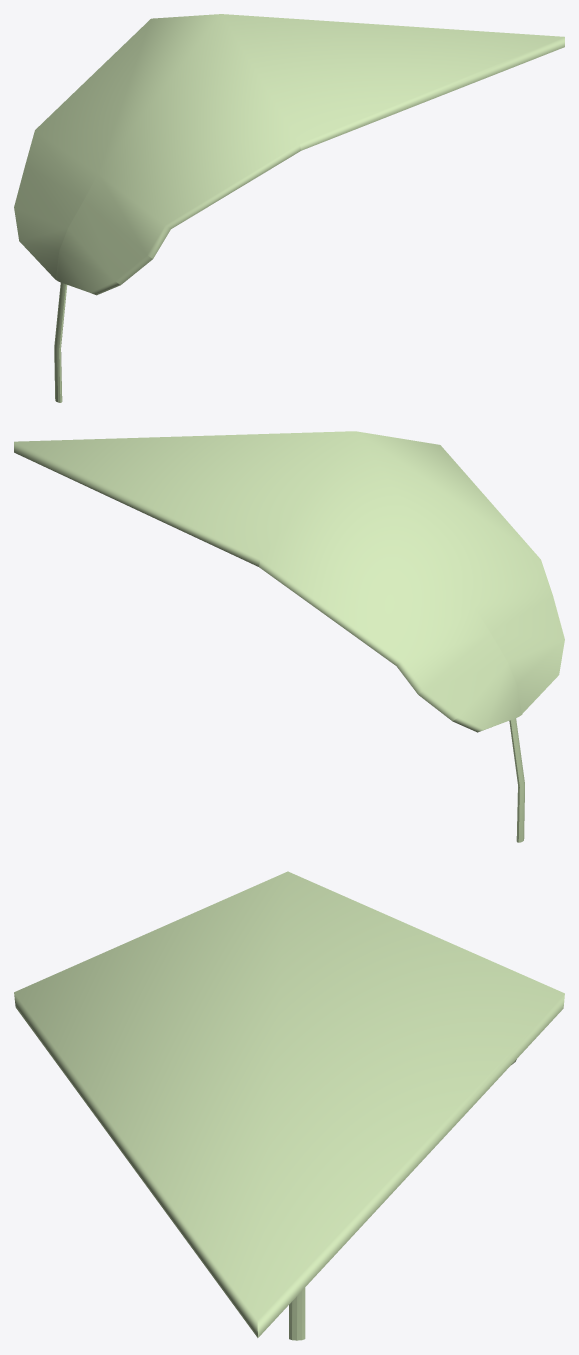
The model's file is Leaf_Giant 1.fbx.
The picture shows the model from 3 angles, top to bottom: view 1: azimuth 30°, elevation 25°; view 2: azimuth 150°, elevation 25°; view 3: azimuth 270°, elevation 25°; orthographic projection. The views are drawn at different scales.
Visible parts, largest first — view 1: giant_leaf; view 2: giant_leaf; view 3: giant_leaf.
Boxes of the visible parts, left/top/right/bottom form: giant_leaf: left=14, top=14, right=564, bottom=402; giant_leaf: left=14, top=431, right=564, bottom=842; giant_leaf: left=14, top=871, right=564, bottom=1340.
Size of the model in its own units: 0.0471 by 0.0316 by 0.0262.
